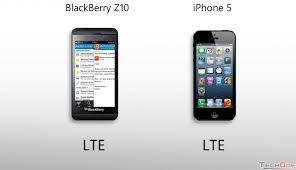iphone: (190, 27, 238, 120)
iphone5: (190, 27, 238, 122)
